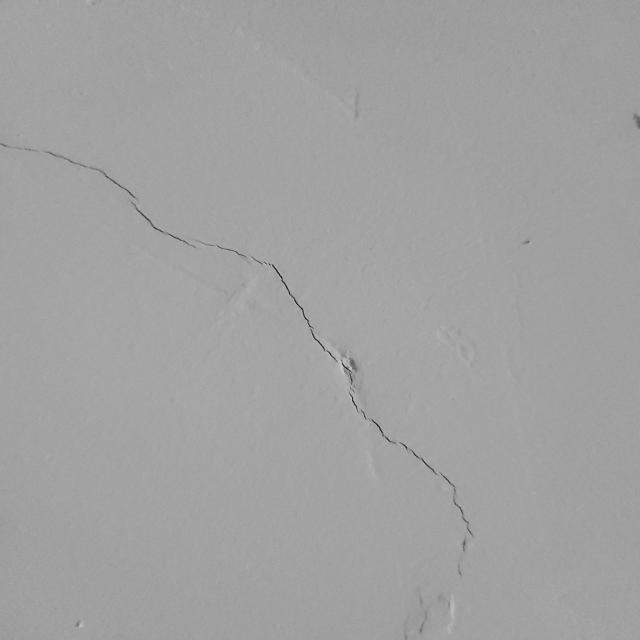rough and patchy surface: (206, 0, 372, 125), (131, 237, 274, 325), (430, 268, 537, 372), (321, 340, 393, 486), (382, 586, 481, 640)
